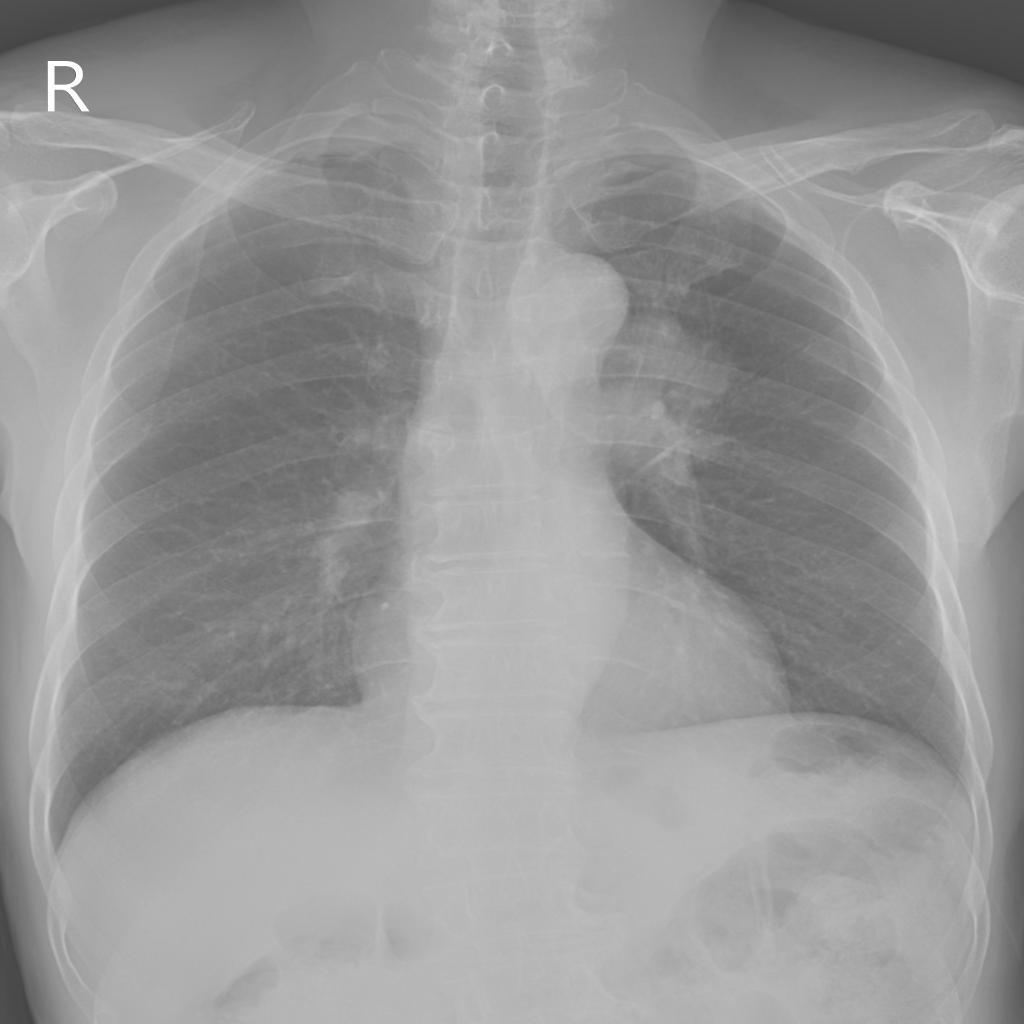Nodule: (593, 314, 744, 496)
